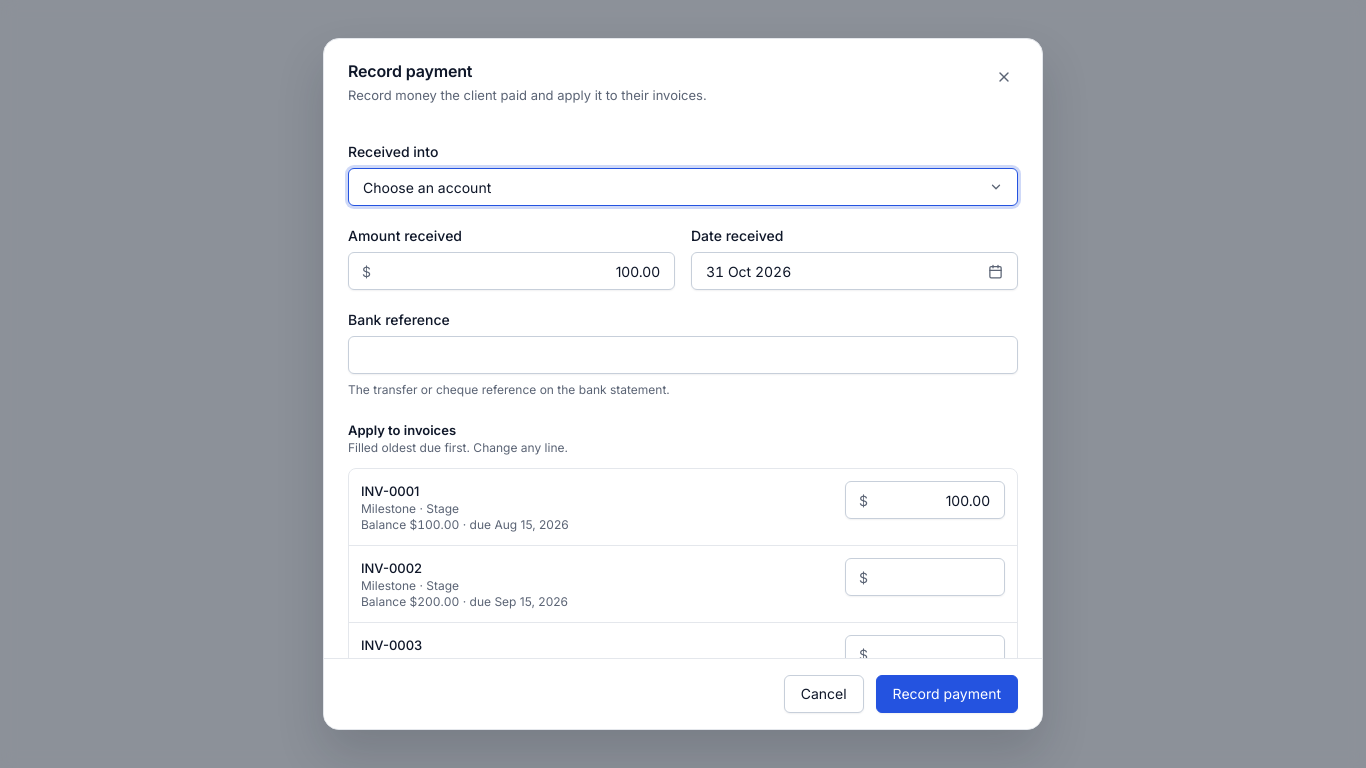
RecordPaymentDialog — a Dialog that applies a receipt oldest due first › a line above its balance is flagged
This screenshot has width=1366, height=768.
Replace the text in the field labelled "INV-0001" with "120" at (925, 500), box [845, 481, 1005, 519]
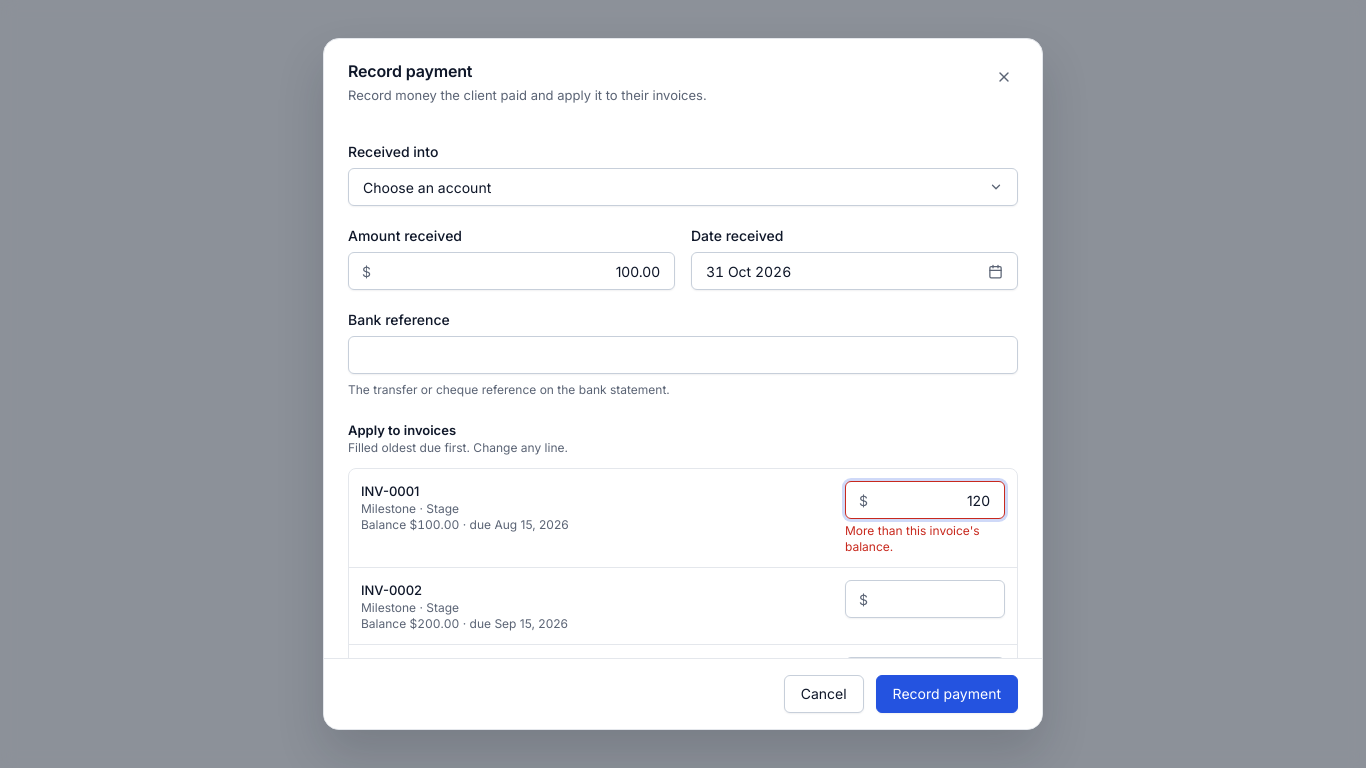
Check: the text "More than this invoice's balance." is shown, box [845, 523, 980, 554]
